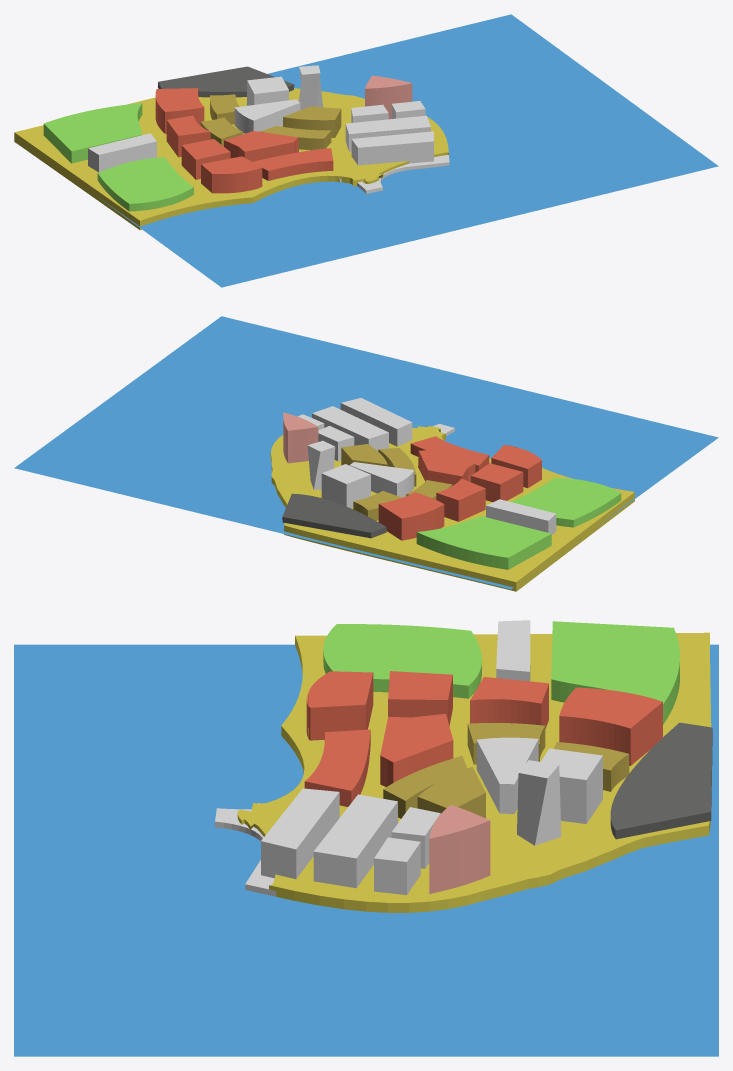
File: HK_MapIntial.fbx
3 renders of one model, top to bottom at view 1: azimuth 30°, elevation 25°; view 2: azimuth 150°, elevation 25°; view 3: azimuth 270°, elevation 25°, orthographic. The views are drawn at different scales.
Visible parts, largest first — view 1: Plane.001, BézierCurve.017, BézierCurve.020, BézierCurve.019, BézierCurve.025, BézierCurve.016, BézierCurve.014, BézierCurve.026, BézierCurve.003, BézierCurve, BézierCurve.015, BézierCurve.021 (+13 smaller); view 2: Plane.001, BézierCurve.017, BézierCurve.019, BézierCurve.020, BézierCurve.016, BézierCurve.015, BézierCurve.011, BézierCurve.025, BézierCurve.002, BézierCurve.003, BézierCurve.018, BézierCurve.026 (+10 smaller); view 3: Plane.001, BézierCurve.017, BézierCurve.019, BézierCurve.016, BézierCurve.020, BézierCurve.015, BézierCurve.002, BézierCurve.025, BézierCurve.008, BézierCurve.003, BézierCurve.014, BézierCurve.018 (+13 smaller).
Part boxes in pixels (x1,y1,x2,y2): Plane.001: (99,14,718,287); BézierCurve.017: (14,88,448,230); BézierCurve.020: (97,157,193,211); BézierCurve.019: (43,103,142,163); BézierCurve.025: (351,131,433,165); BézierCurve.016: (158,66,294,97); BézierCurve.014: (201,156,262,193); BézierCurve.026: (88,133,156,172); BézierCurve.003: (224,131,298,161); BézierCurve: (252,148,333,180); BézierCurve.015: (155,88,204,133); BézierCurve.021: (234,99,300,133); Plane.001: (14,316,718,589); BézierCurve.017: (270,426,634,591); BézierCurve.019: (416,516,551,569); BézierCurve.020: (511,477,621,527); BézierCurve.016: (282,493,386,538); BézierCurve.015: (378,492,444,540); BézierCurve.011: (321,464,370,508); BézierCurve.025: (340,398,412,446); BézierCurve.002: (312,406,388,451); BézierCurve.003: (418,450,475,485); BézierCurve.018: (436,478,485,521); BézierCurve.026: (486,499,556,534); Plane.001: (14,644,718,1056); BézierCurve.017: (237,632,711,912); BézierCurve.019: (551,621,679,724); BézierCurve.016: (610,722,712,839); BézierCurve.020: (323,624,481,698); BézierCurve.015: (559,687,662,765); BézierCurve.002: (313,794,397,888); BézierCurve.025: (261,788,339,879); BézierCurve.008: (429,805,490,893); BézierCurve.003: (380,713,453,786); BézierCurve.014: (306,671,373,740); BézierCurve.018: (470,677,548,728).
Size of the model in its own units: 12733 by 1482 by 9163.
